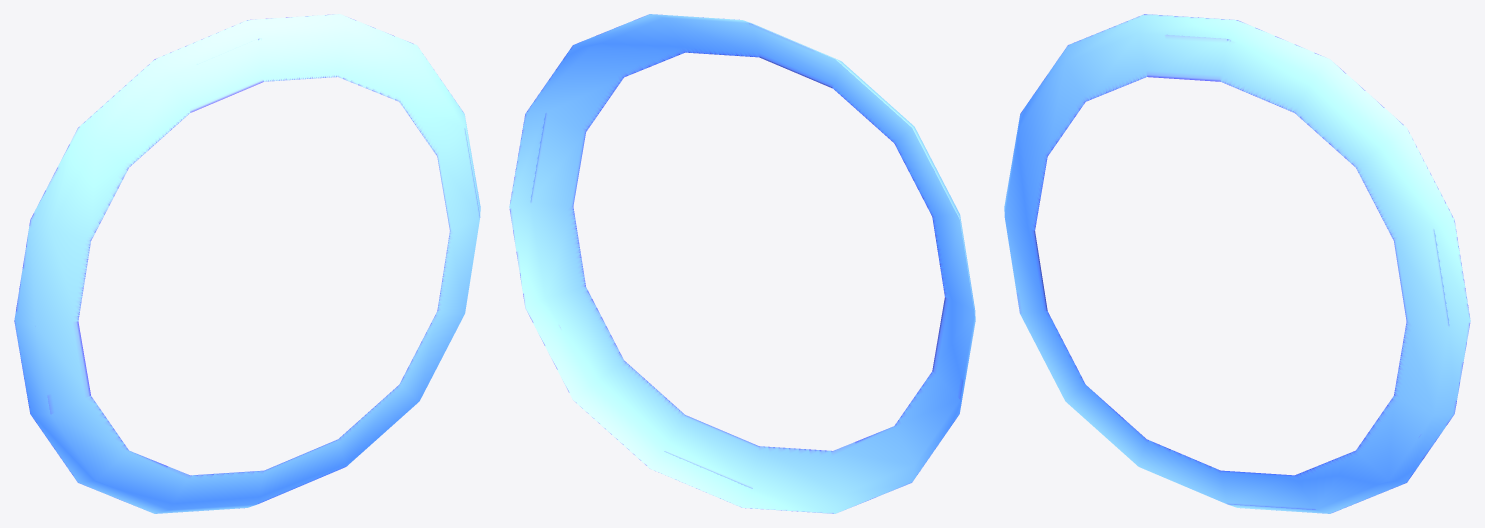
The model's file is obrys2.fbx.
3 renders of one model, left to right at view 1: azimuth 30°, elevation 25°; view 2: azimuth 150°, elevation 25°; view 3: azimuth 330°, elevation 25°, orthographic.
Parts seen in each view (by area): view 1: obrys1; view 2: obrys1; view 3: obrys1.
Boxes of the visible parts, <box> form: obrys1: <box>14,14,480,513</box>; obrys1: <box>509,14,975,513</box>; obrys1: <box>1004,14,1470,513</box>.
Bounding box in the file's own units: 217 × 217 × 13.48.
1 material, 1 textured.
